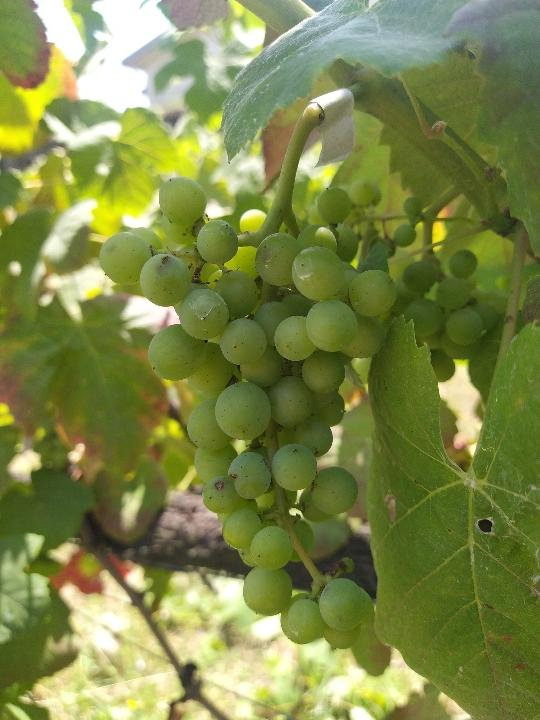grape: (91, 172, 397, 653)
